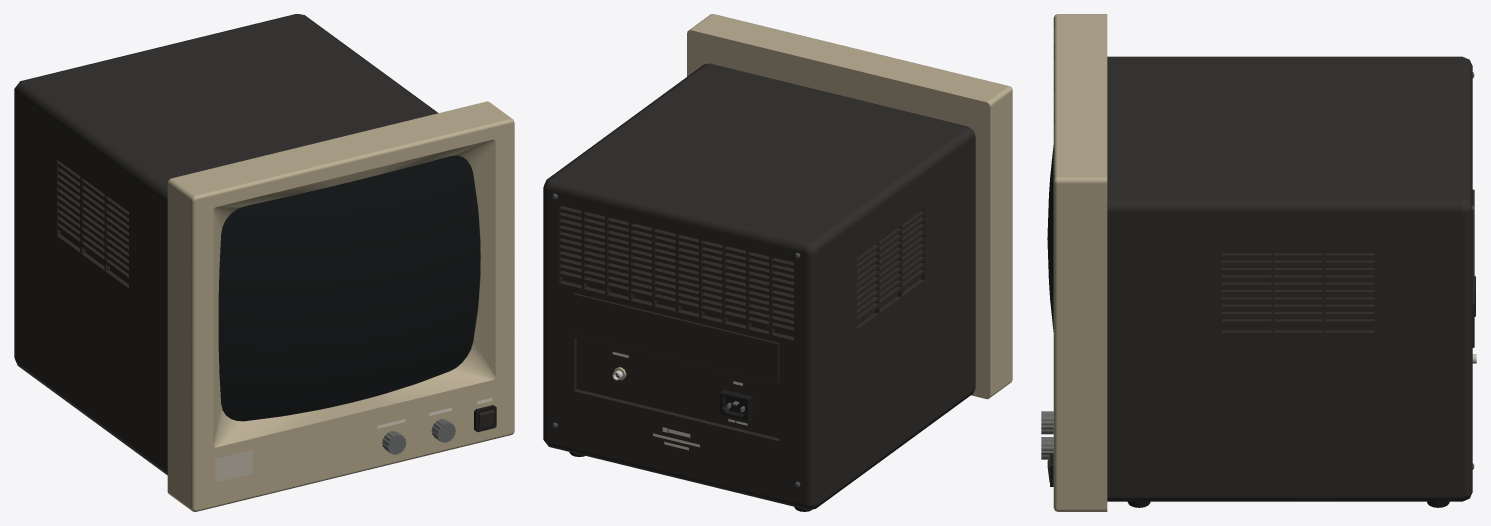
The model's file is crt-monitor-mono-0f361186e9b3.glb.
The picture shows the model from 3 angles, left to right: view 1: azimuth 30°, elevation 25°; view 2: azimuth 150°, elevation 25°; view 3: azimuth 270°, elevation 25°; orthographic projection. The views are drawn at different scales.
Parts seen in each view (by area): view 1: plastic-dark, enamel-beige, screen-live, display-glass, decal-print, metal; view 2: plastic-dark, enamel-beige, enamel-black; view 3: plastic-dark, enamel-beige, screen-live, metal.
Boxes of the visible parts, box(x1,y1,x2,y2) form: plastic-dark: box(14, 14, 494, 475); enamel-beige: box(167, 101, 514, 511); screen-live: box(236, 172, 463, 406); display-glass: box(218, 155, 480, 421); decal-print: box(215, 449, 252, 482); metal: box(382, 418, 455, 454); plastic-dark: box(543, 63, 975, 509); enamel-beige: box(613, 14, 1012, 399); enamel-black: box(719, 389, 752, 421); plastic-dark: box(1047, 56, 1474, 501); enamel-beige: box(1053, 14, 1107, 511); screen-live: box(1047, 145, 1053, 331); metal: box(1041, 72, 1474, 469).
Size of the model in its own units: 0.31 by 0.3 by 0.3417.
